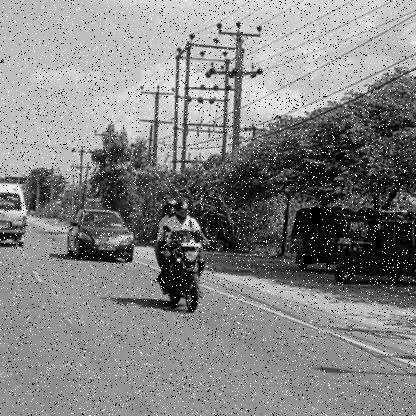motorcycle: (150, 238, 214, 317)
